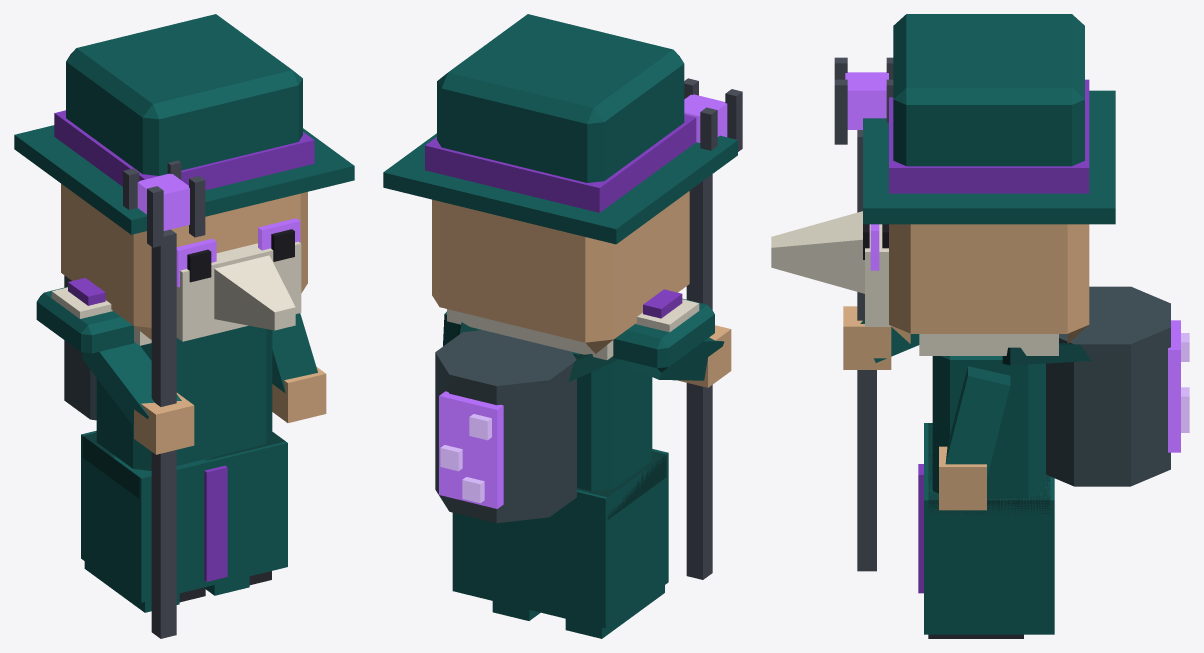
Rendered from weakener_rare.glb.
The picture shows the model from 3 angles, left to right: view 1: azimuth 30°, elevation 25°; view 2: azimuth 150°, elevation 25°; view 3: azimuth 270°, elevation 25°; orthographic projection. The views are drawn at different scales.
Parts seen in each view (by area): view 1: weakener_rare_mesh; view 2: weakener_rare_mesh; view 3: weakener_rare_mesh.
Boxes of the visible parts, left/top/right/bottom form: weakener_rare_mesh: left=14, top=14, right=354, bottom=638; weakener_rare_mesh: left=383, top=14, right=742, bottom=638; weakener_rare_mesh: left=771, top=14, right=1189, bottom=638.
Bounding box in the file's own units: 0.6454 × 1.3 × 0.8851.
Materials: 2 (2 with a texture image).
